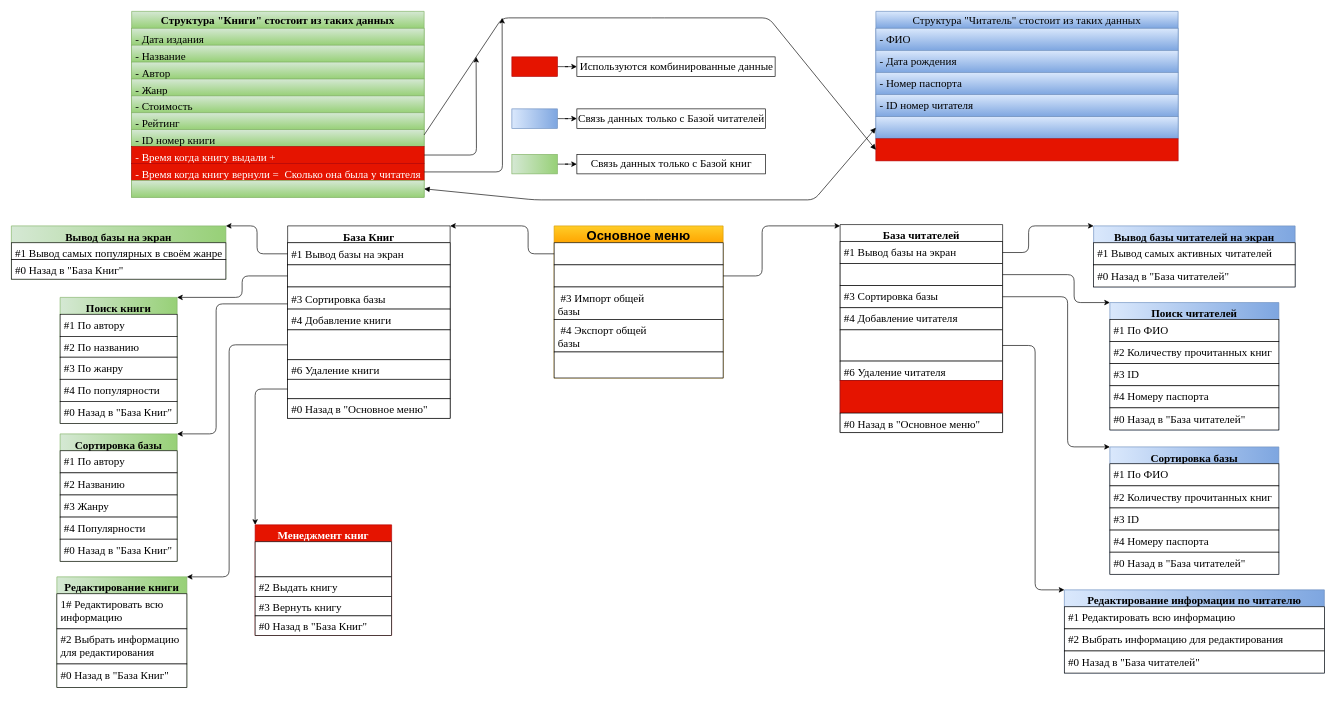
This 1336x701 diagram has some shape labels left out. The shapes that lost their labels are listed below. From the top down, each one's centre as x and y in pixels, then its label:
(1026,127): - Количество прочитанных книг
(1026,149): - Список книг на руках у читателя
(277,188): - Сколько раз её взяли = популярность
(638,253): #1 База книг
(368,275): #2 Поиск книги
(638,275): #2 База читателей
(921,274): #2 Поиск читателя
(368,344): #5 Редактирование информации по книге
(638,364): #0 Выход
(921,345): #5 Редактирование информации по читателю
(368,389): #7 Менеджмент книг
(921,396): #7 Список читателей с просроче- нной датой возврата книги
(323,559): #1 Вывод списка выданных книг
